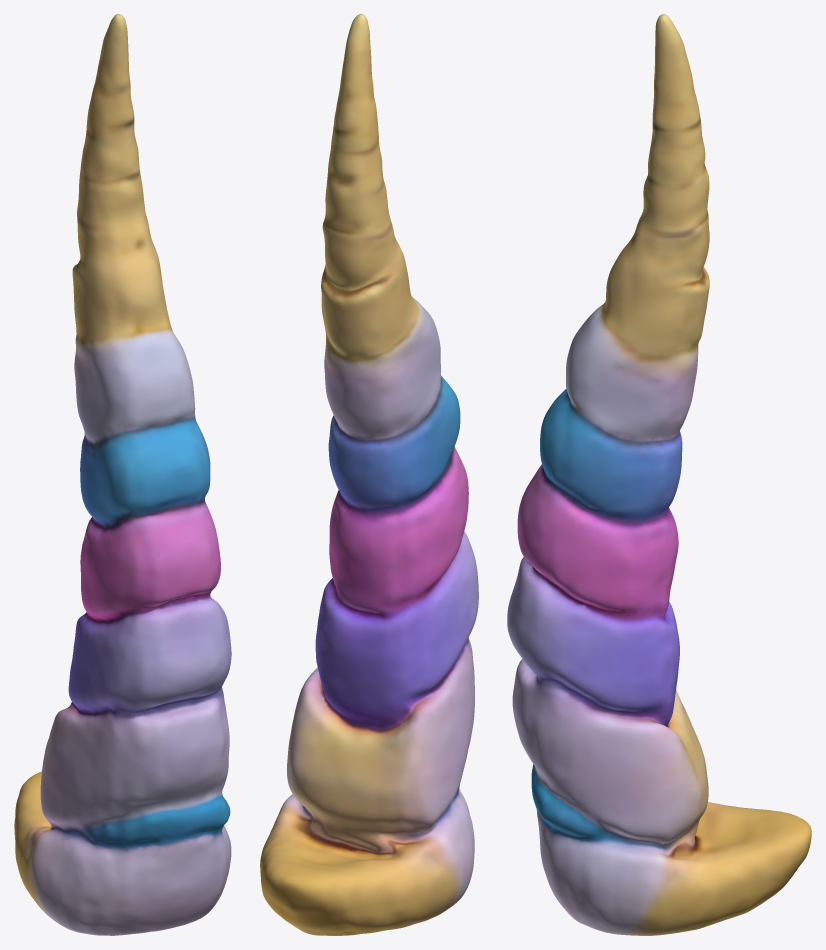
Rendered from 2868ce79fd87_Unicorn_horn__3d_asset_0_glb.glb.
The picture shows the model from 3 angles, left to right: view 1: azimuth 30°, elevation 25°; view 2: azimuth 150°, elevation 25°; view 3: azimuth 270°, elevation 25°; orthographic projection.
Parts seen in each view (by area): view 1: world; view 2: world; view 3: world.
Part boxes in pixels (x1,y1,x2,y2): world: (14,14,231,935); world: (260,14,478,935); world: (507,14,811,935).
Size of the model in its own units: 0.1253 by 0.5892 by 0.1829.
1 material, 1 textured.
